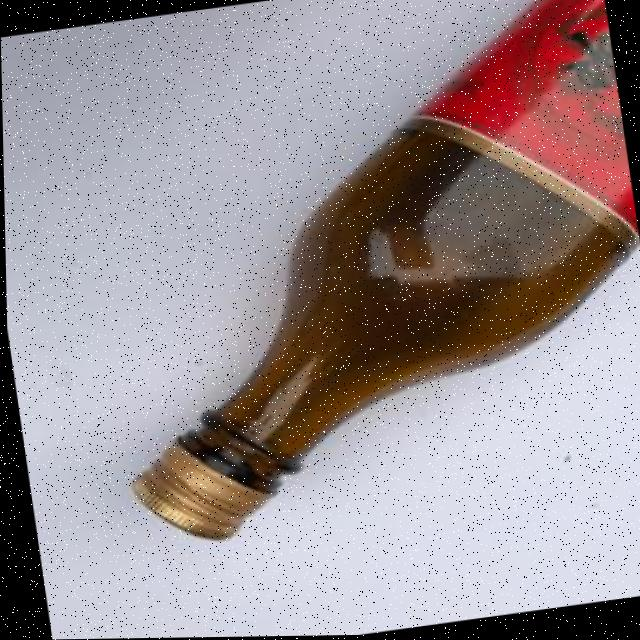glass: (53, 0, 640, 563)
